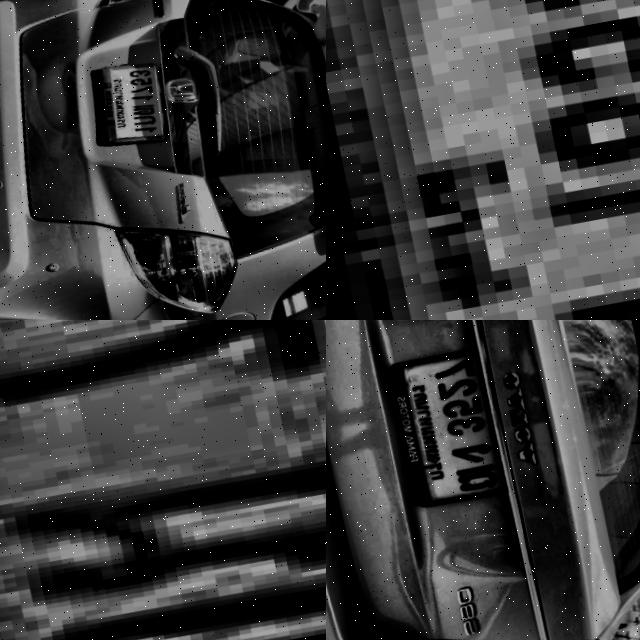license-plate: (0, 320, 326, 640), (326, 0, 640, 320), (383, 345, 513, 511), (85, 52, 179, 156)
